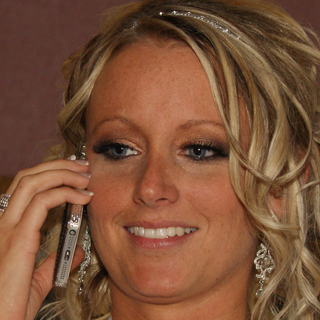eye: (178, 138, 228, 165), (93, 138, 141, 164)
